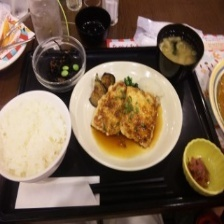rice: (1, 93, 70, 178)
